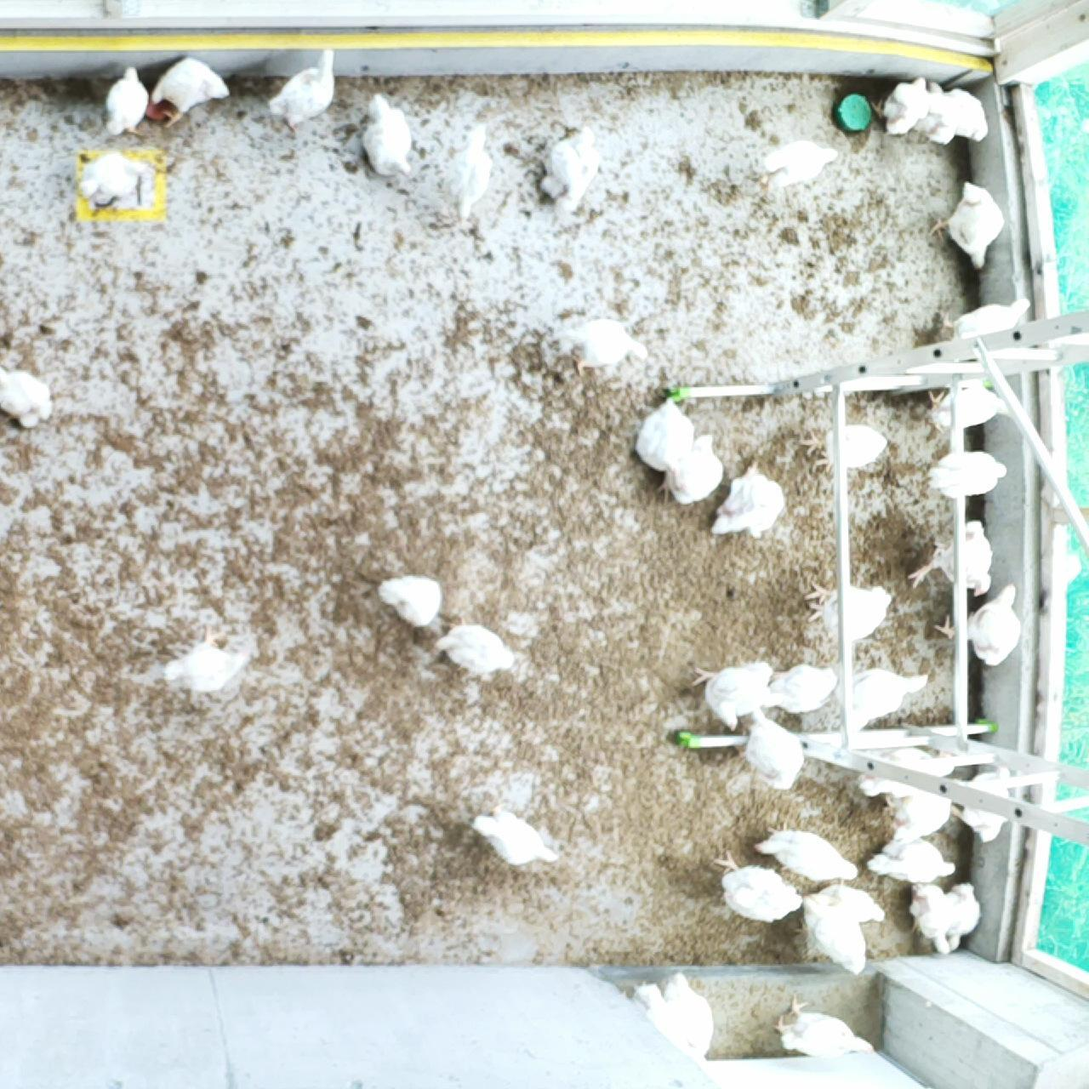chicken: (800, 877, 883, 972), (778, 993, 881, 1067), (912, 519, 999, 600), (936, 584, 1018, 669), (634, 971, 714, 1052), (265, 48, 338, 136), (761, 822, 858, 887), (687, 652, 775, 722), (719, 849, 800, 924), (160, 626, 246, 691), (946, 755, 1015, 836), (713, 460, 789, 533), (794, 582, 897, 635), (476, 803, 560, 867), (944, 181, 1005, 268), (147, 55, 231, 117), (927, 375, 1016, 433), (905, 880, 982, 947), (839, 667, 931, 723), (921, 82, 990, 154), (940, 293, 1035, 345), (749, 709, 809, 791), (869, 835, 959, 888), (441, 622, 516, 685), (860, 744, 949, 796), (664, 435, 732, 503), (546, 129, 599, 213), (561, 316, 645, 369), (363, 94, 414, 179), (894, 773, 950, 850), (1, 365, 69, 428), (448, 123, 492, 220), (753, 664, 841, 712), (631, 396, 693, 464), (805, 425, 888, 474), (763, 137, 839, 190), (931, 452, 1006, 498), (87, 156, 151, 208), (107, 65, 155, 134), (886, 76, 927, 143), (382, 575, 436, 624)
